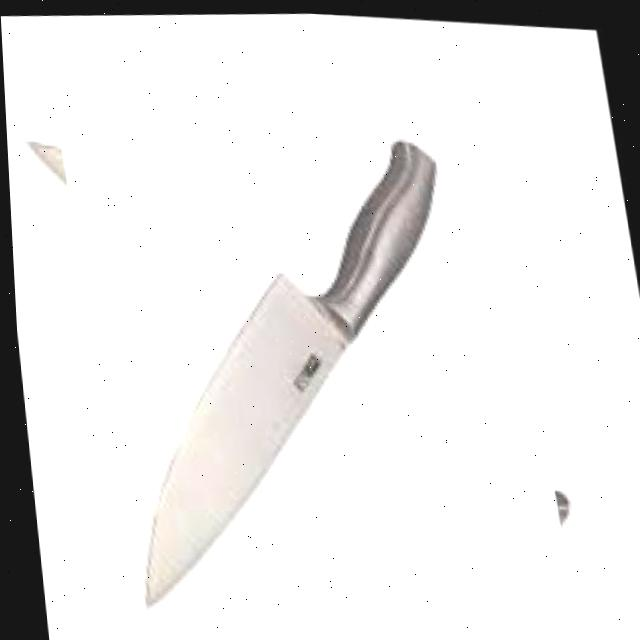knife: (94, 123, 478, 621)
